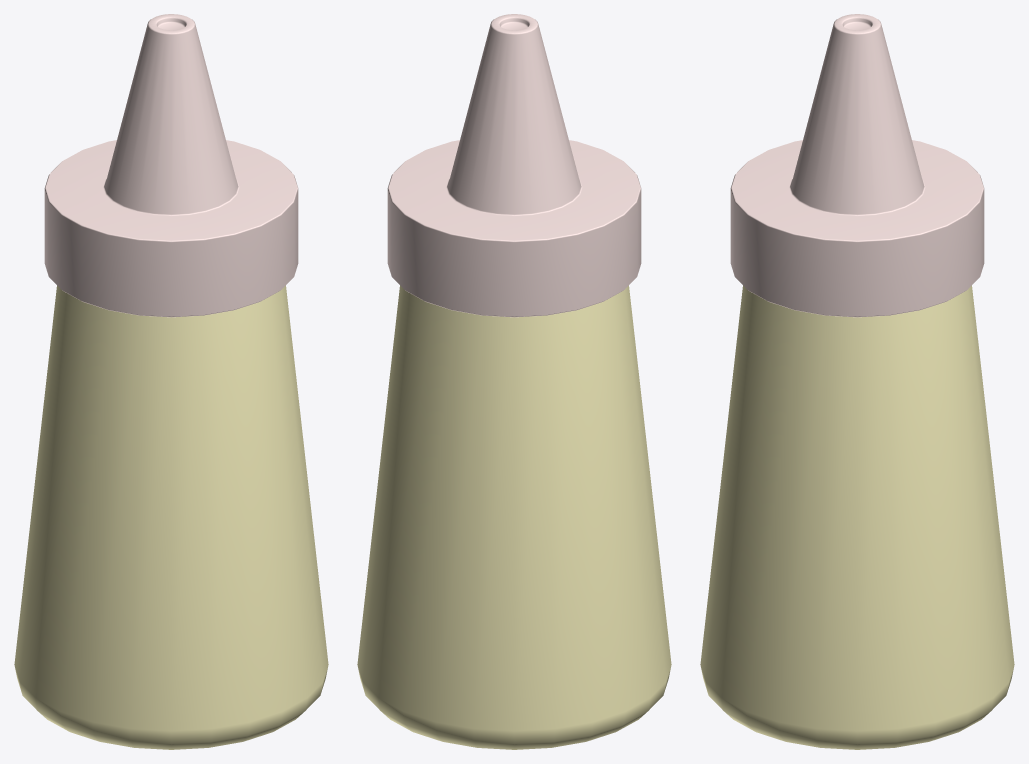
The model's file is Store_12_Mayonnaise_1.glb.
The picture shows the model from 3 angles, left to right: view 1: azimuth 30°, elevation 25°; view 2: azimuth 150°, elevation 25°; view 3: azimuth 270°, elevation 25°; orthographic projection.
Visible parts, largest first — view 1: Store_12_Mayonnaise_1; view 2: Store_12_Mayonnaise_1; view 3: Store_12_Mayonnaise_1.
Part boxes in pixels (x1,y1,x2,y2): Store_12_Mayonnaise_1: (14, 14, 328, 749); Store_12_Mayonnaise_1: (357, 14, 671, 749); Store_12_Mayonnaise_1: (700, 14, 1014, 749).
Bounding box in the file's own units: 0.2221 × 0.5226 × 0.2221.
1 material, 1 textured.
